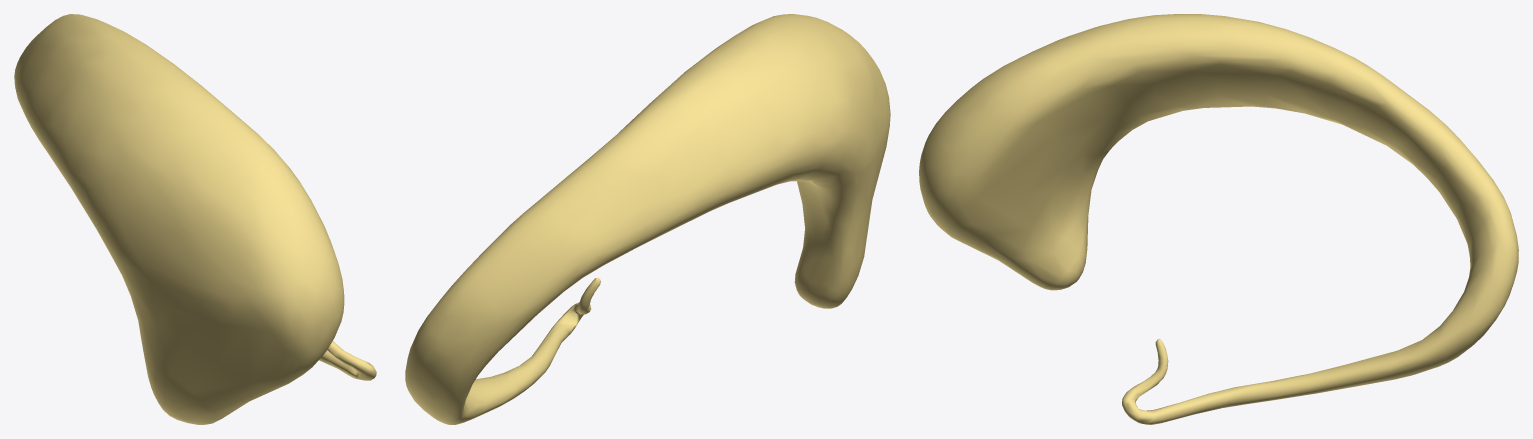
The picture shows the model from 3 angles, left to right: view 1: azimuth 30°, elevation 25°; view 2: azimuth 150°, elevation 25°; view 3: azimuth 270°, elevation 25°; orthographic projection. The views are drawn at different scales.
Visible parts, largest first — view 1: ZA_9ab895edfb899223; view 2: ZA_9ab895edfb899223; view 3: ZA_9ab895edfb899223.
Part boxes in pixels (x1=…): ZA_9ab895edfb899223: x1=14, y1=14, x2=376, y2=424; ZA_9ab895edfb899223: x1=405, y1=14, x2=890, y2=424; ZA_9ab895edfb899223: x1=919, y1=14, x2=1518, y2=424.
Size of the model in its own units: 0.0309 by 0.036 by 0.0617.
